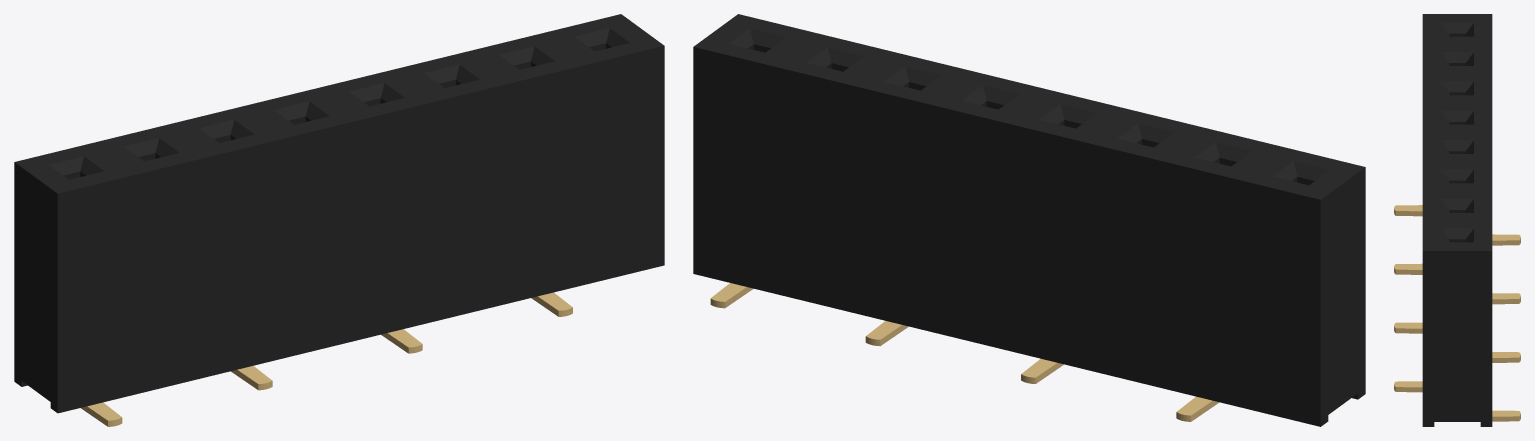
3 renders of one model, left to right at view 1: azimuth 30°, elevation 25°; view 2: azimuth 150°, elevation 25°; view 3: azimuth 270°, elevation 25°, orthographic. The views are drawn at different scales.
Visible parts, largest first — view 1: =>[0:1:1:3]; view 2: =>[0:1:1:3]; view 3: =>[0:1:1:3].
Part boxes in pixels (x1=…): =>[0:1:1:3]: x1=14, y1=14, x2=664, y2=426; =>[0:1:1:3]: x1=693, y1=14, x2=1365, y2=426; =>[0:1:1:3]: x1=1394, y1=14, x2=1520, y2=426.
Bounding box in the file's own units: 0.0205 × 0.0074 × 0.00464.
